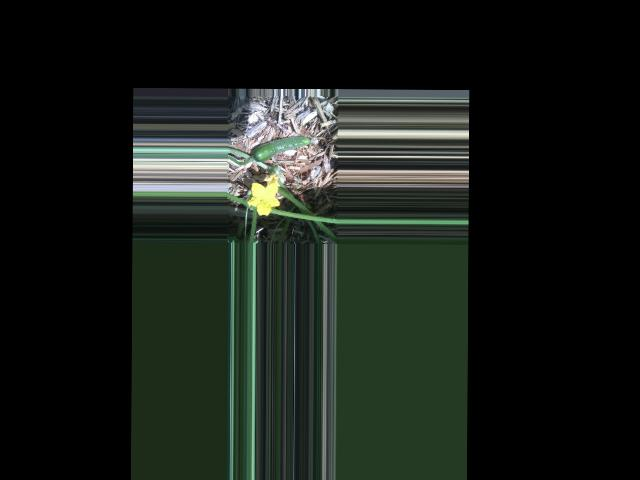cucumber: (251, 134, 316, 162)
